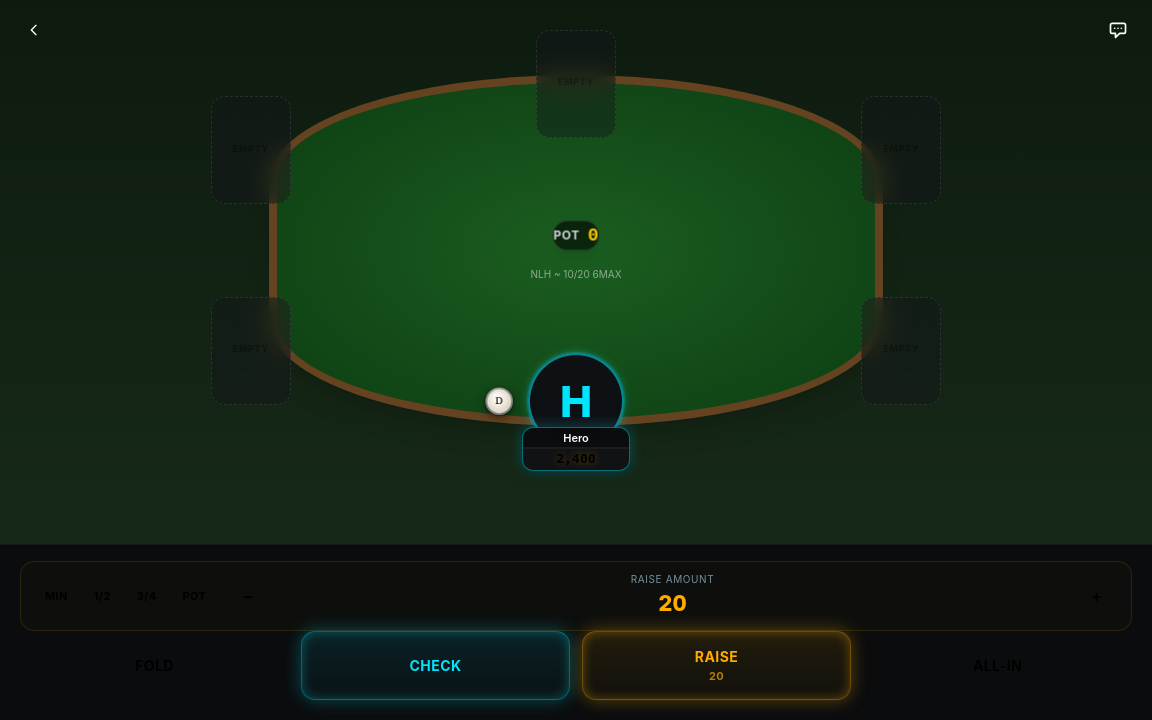
Scenario: Scenario: leaving a table › back chrome button opens the sheet instead of leaving outright
Click the button named "back to menu": x=34, y=30 [12,8,56,52]
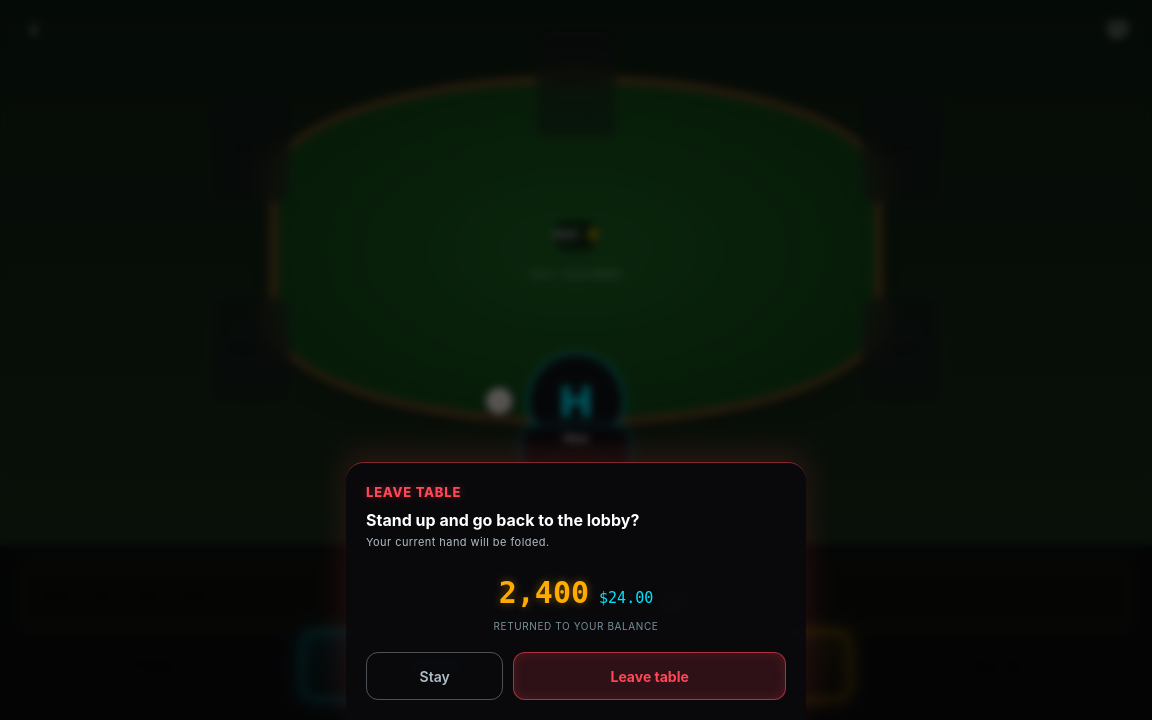
Result: the element with test id "leave-table-modal" is shown at [346,462,806,719]
